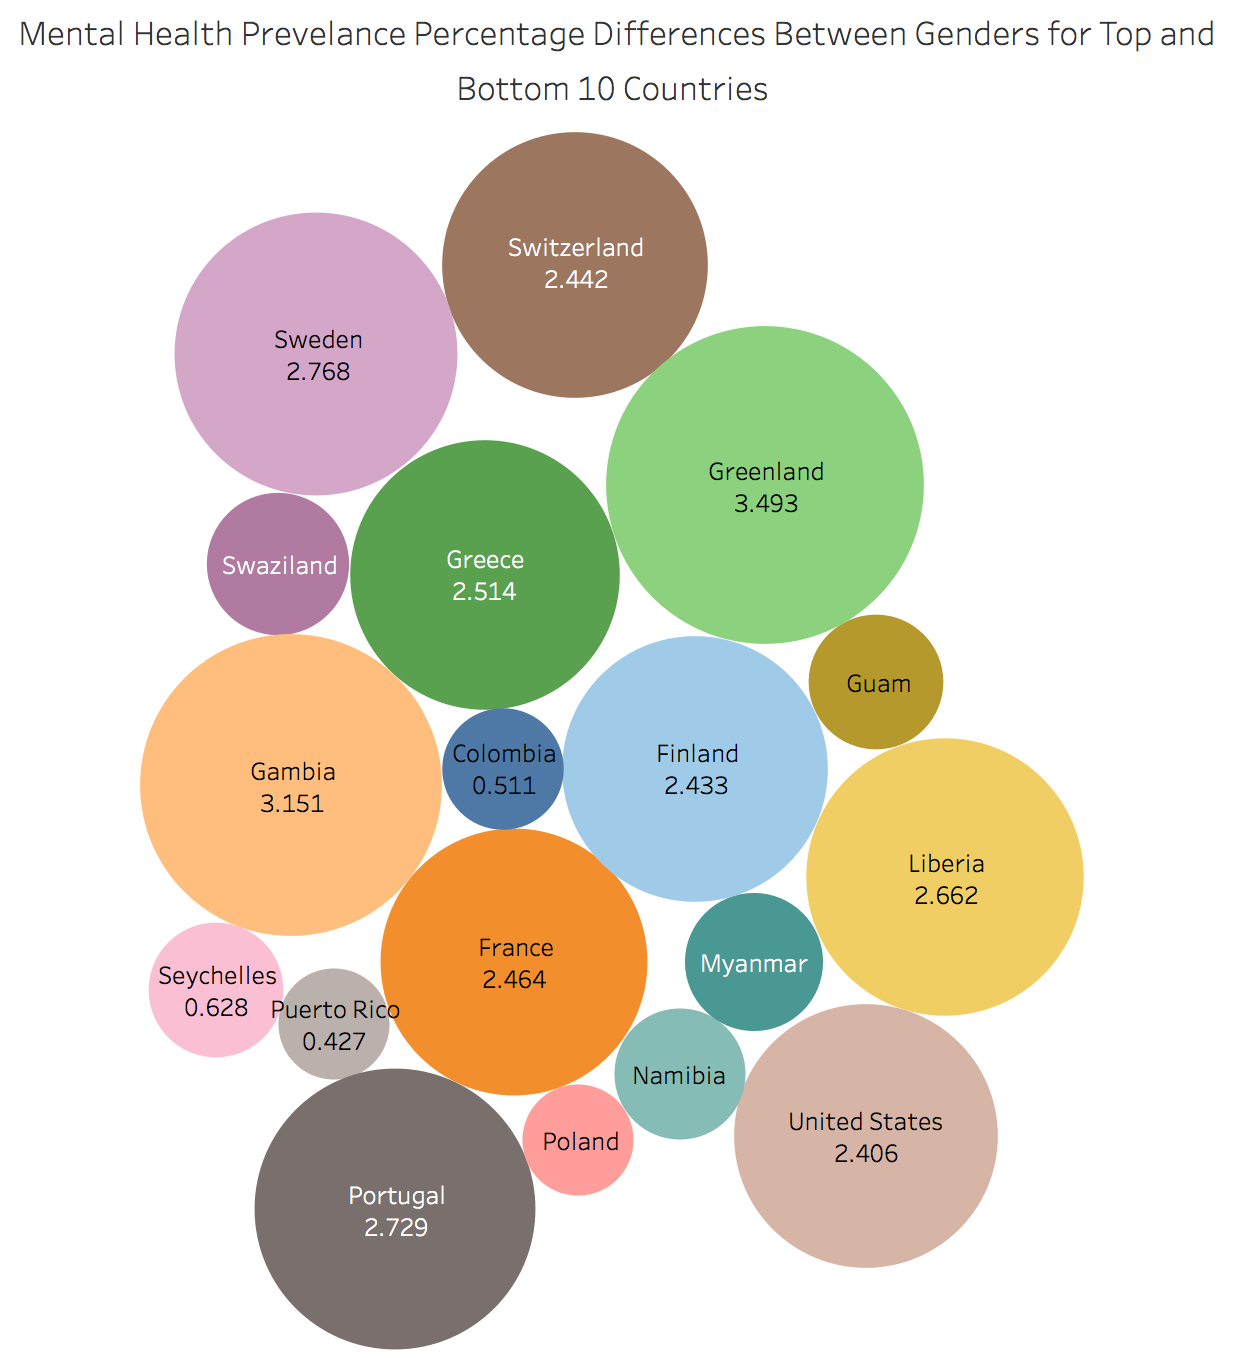

What the dashboard file says about the page in this screenshot:
{"tool":"tableau","page":{"name":"Dashboard 1","canvas":[1000,800],"ordinal":0},"visuals":[{"type":"worksheet","title":"Sheet 4","mark":"Automatic","box":[8,8,824,784]},{"type":"legend","title":"Sheet 4","param":"[federated.0pt2vkq0hfuvb31849lue0dyv85i].[sum:prevalence:qk]","box":[832,8,160,65]}]}

Visuals, with their boxes on the page's 1000x800 design canvas (x1, y1, x2, y2). These are canvas units, not pixel positions in the 1242x1358 screenshot, which may show the page scaled, cropped or inside an application window:
"Sheet 4" worksheet: Rect(8, 8, 832, 792)
"Sheet 4" legend: Rect(832, 8, 992, 73)
